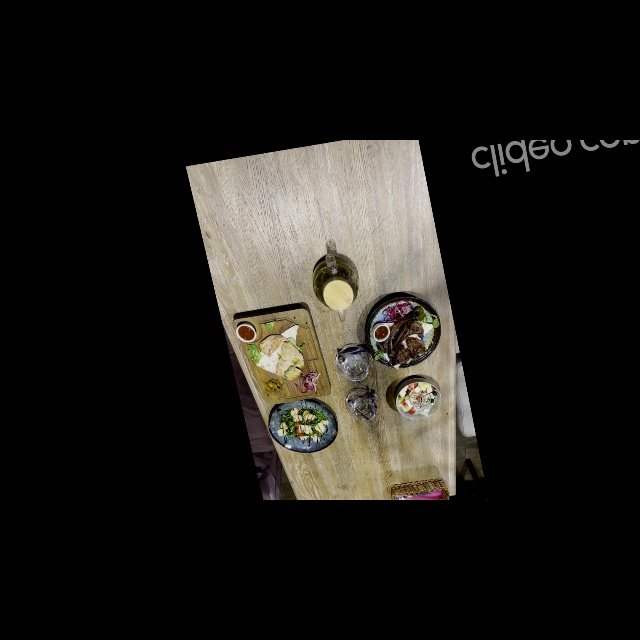закуска: (230, 303, 334, 410)
мясное блюдо: (357, 288, 449, 375)
салат: (263, 393, 343, 460)
салат цезарь: (390, 373, 446, 424)
